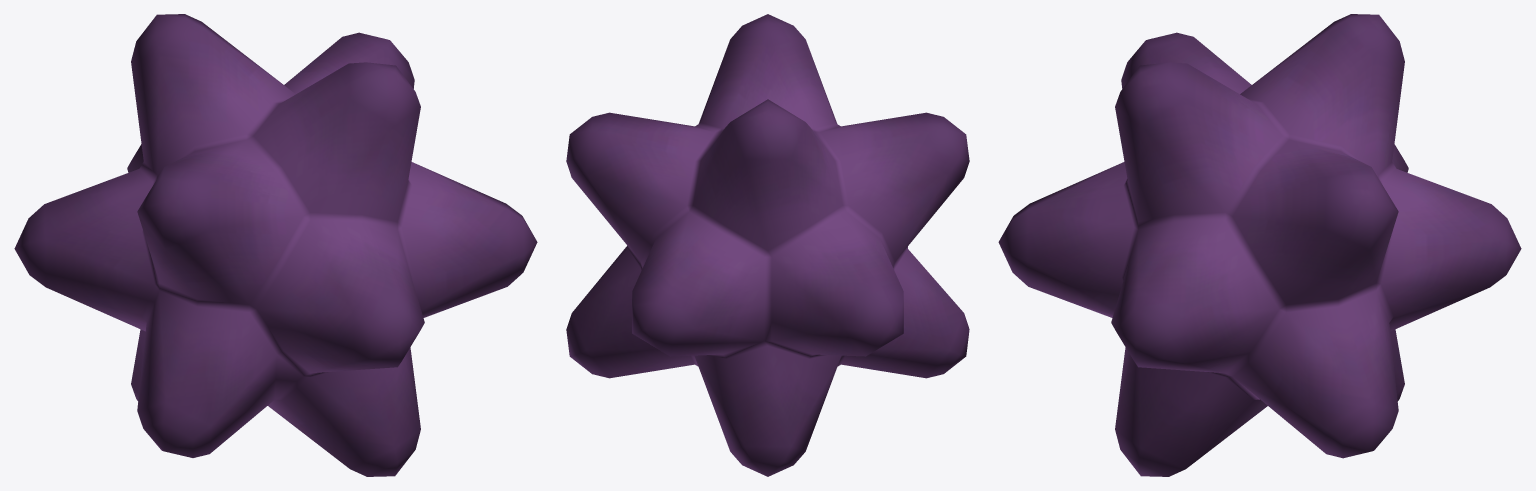
Rendered from aquarius-fragment.glb.
3 renders of one model, left to right at view 1: azimuth 30°, elevation 25°; view 2: azimuth 150°, elevation 25°; view 3: azimuth 270°, elevation 25°, orthographic. The views are drawn at different scales.
Size of the model in its own units: 3.1 by 3.05 by 3.52.
Materials: 1 (1 with a texture image).
